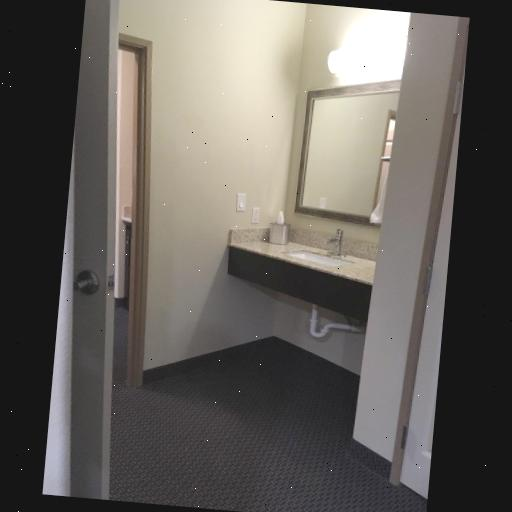clean_sink: (222, 223, 380, 328)
